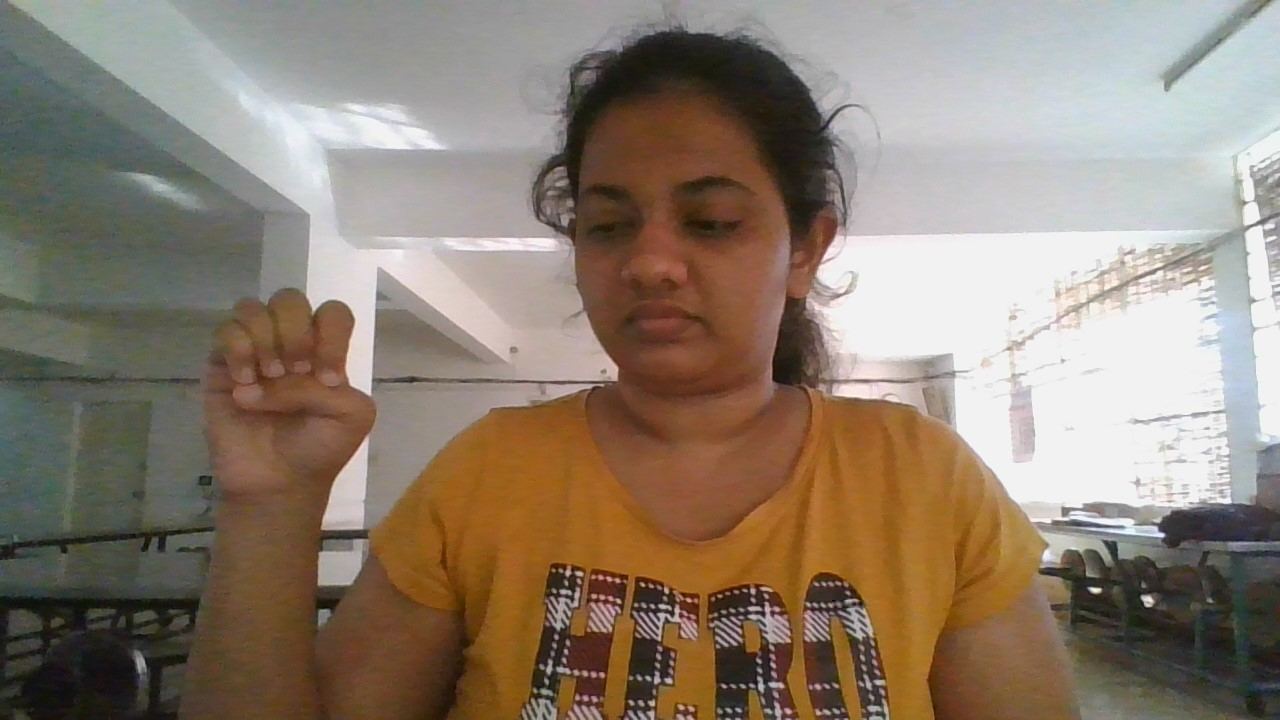e: (183, 285, 387, 513)
